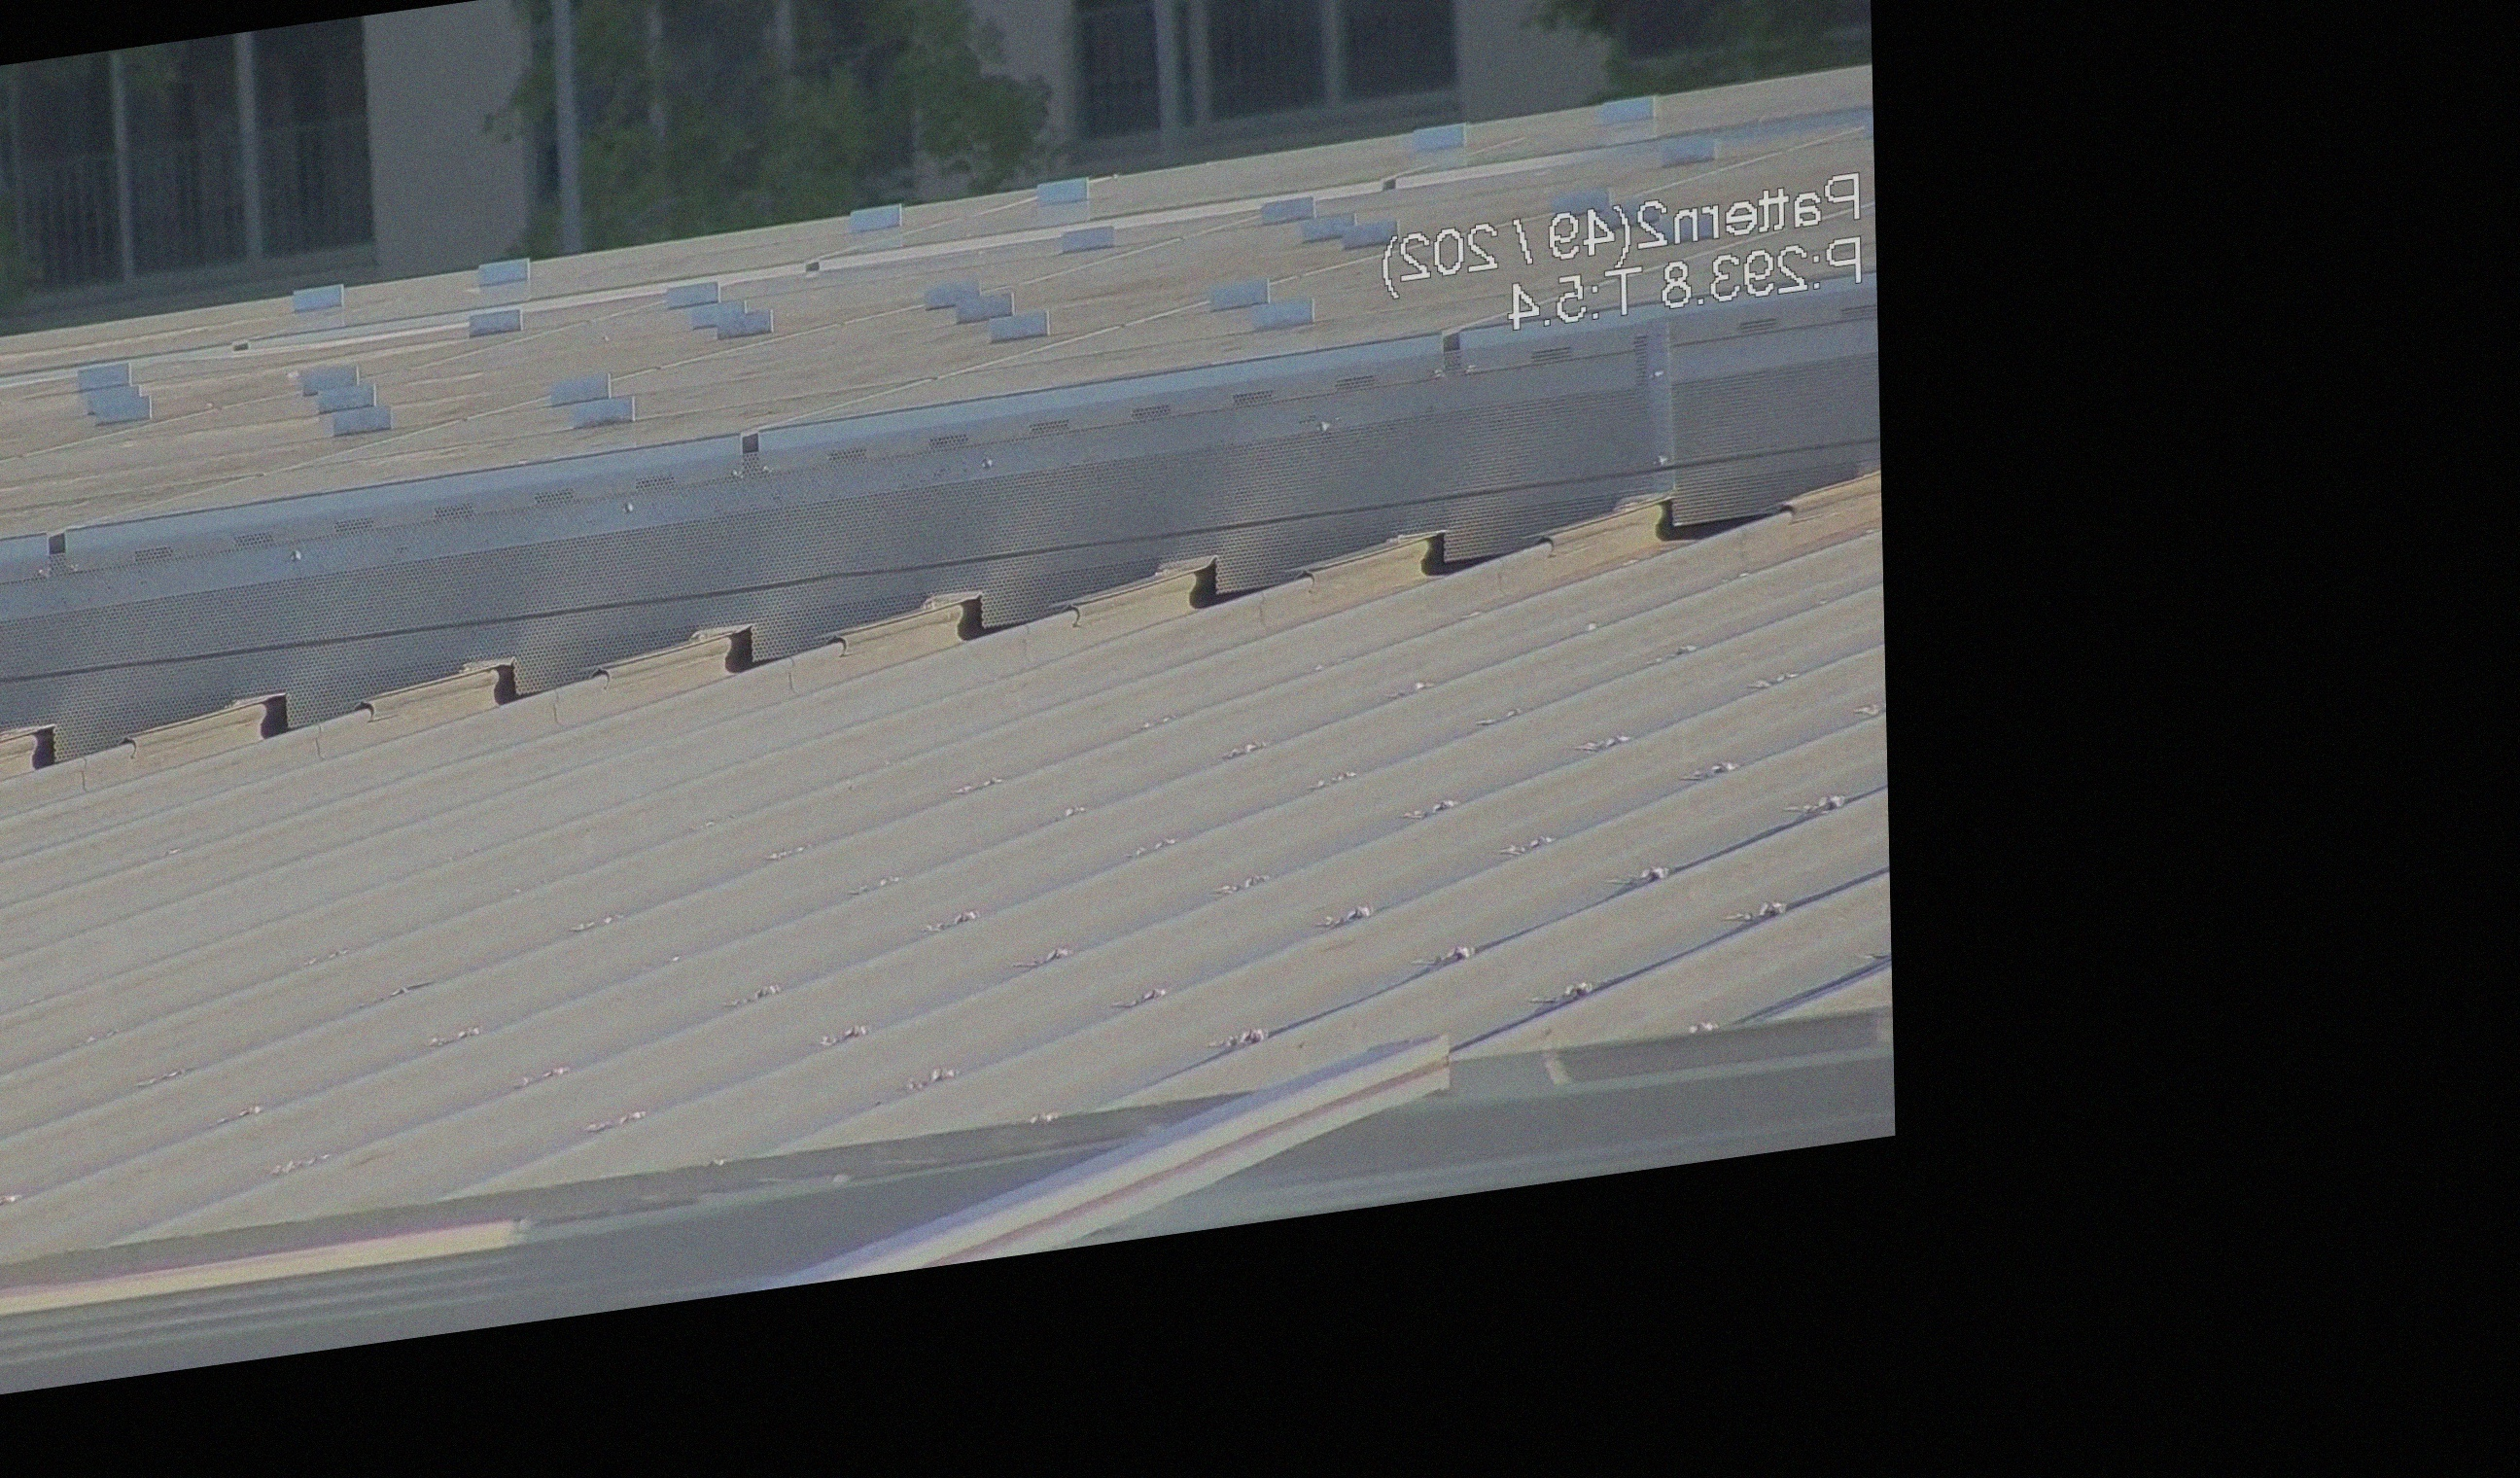Other: (1194, 544, 1243, 609)
